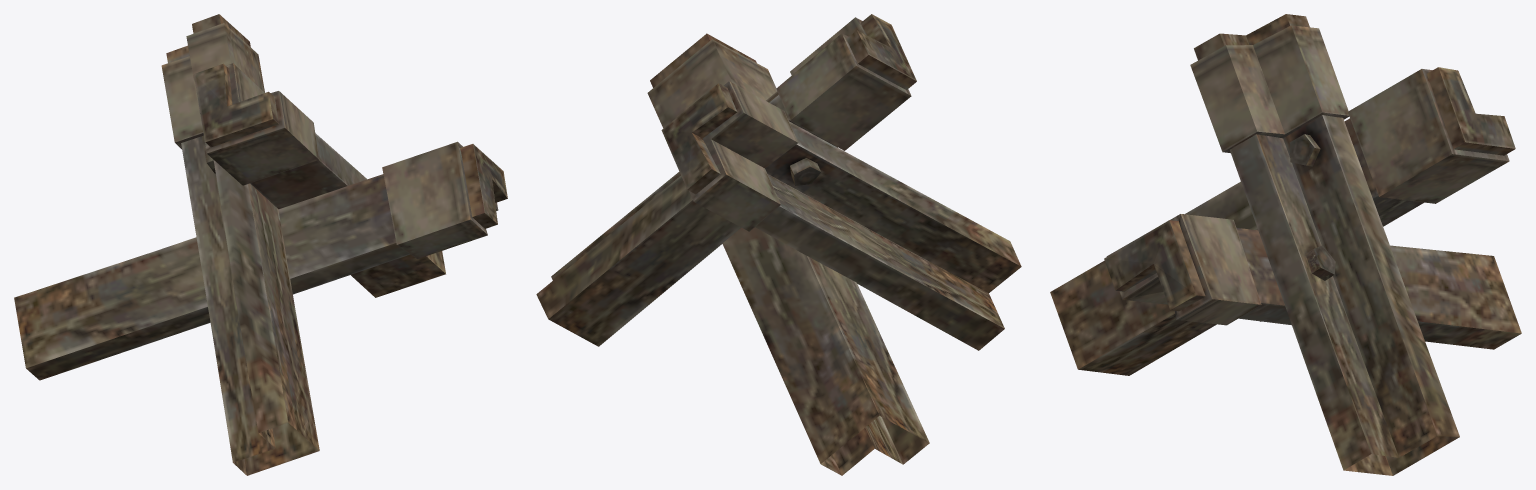
The model's file is C3SMTKCRSA_H.obj.
3 views of the same model, side by side, from view 1: azimuth 30°, elevation 25°; view 2: azimuth 150°, elevation 25°; view 3: azimuth 270°, elevation 25° (orthographic). The views are drawn at different scales.
Visible parts, largest first — view 1: Node 0; view 2: Node 0; view 3: Node 0.
Part boxes in pixels (left/top/right/bottom): Node 0: left=14, top=14, right=507, bottom=475; Node 0: left=536, top=14, right=1021, bottom=475; Node 0: left=1050, top=14, right=1521, bottom=475.
Size of the model in its own units: 5.74 by 4.91 by 5.42.
1 material, 1 textured.
